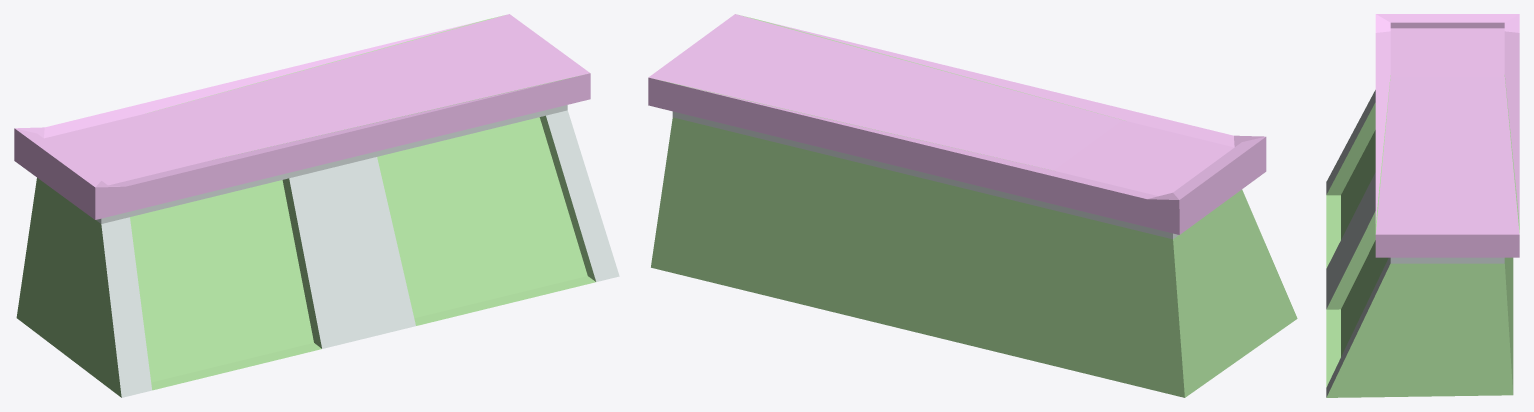
Rendered from Counter.fbx.
The picture shows the model from 3 angles, left to right: view 1: azimuth 30°, elevation 25°; view 2: azimuth 150°, elevation 25°; view 3: azimuth 270°, elevation 25°; orthographic projection. The views are drawn at different scales.
Parts seen in each view (by area): view 1: Cube.024; view 2: Cube.024; view 3: Cube.024.
Part boxes in pixels (x1=…): Cube.024: x1=14, y1=14, x2=619, y2=397; Cube.024: x1=648, y1=14, x2=1297, y2=397; Cube.024: x1=1326, y1=14, x2=1519, y2=397.
Bounding box in the file's own units: 3.94 × 1.45 × 1.49.
